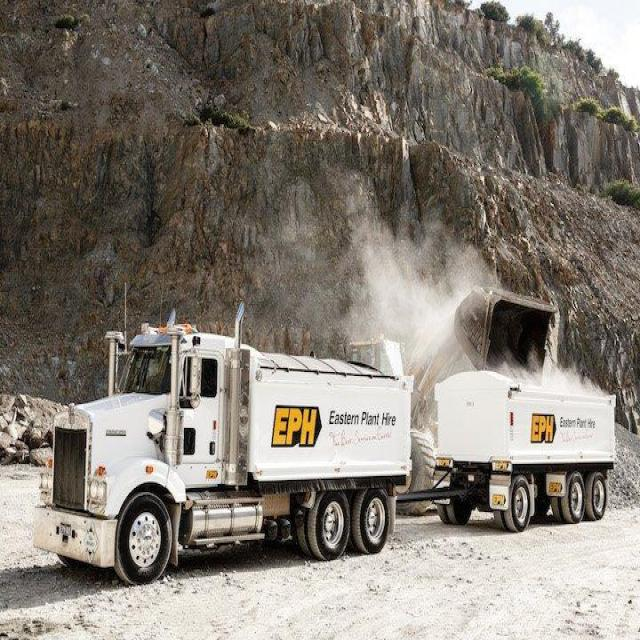truck: (32, 317, 617, 586)
